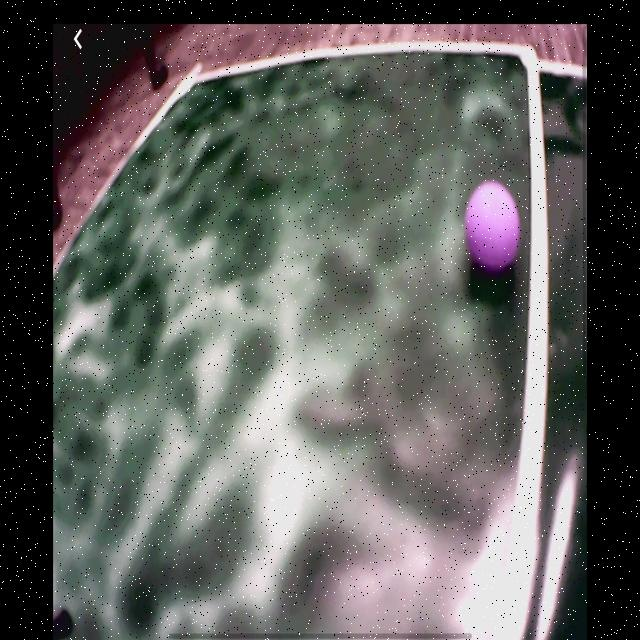ball: (465, 181, 521, 273)
